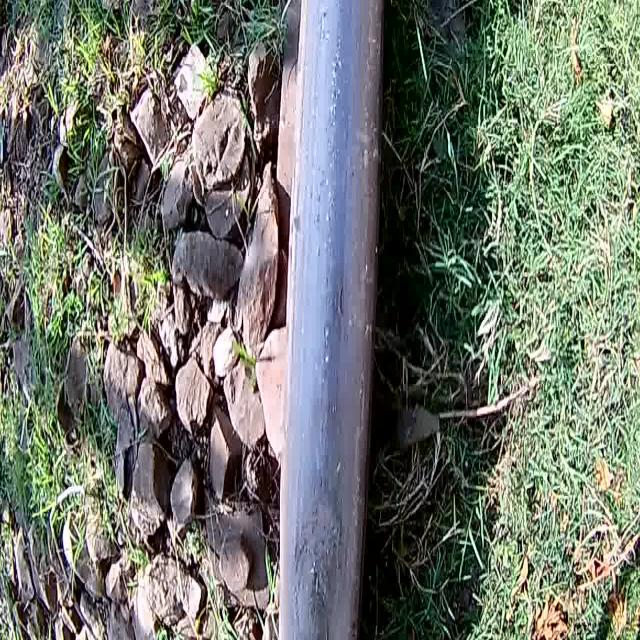Squats: (265, 459, 381, 640)
